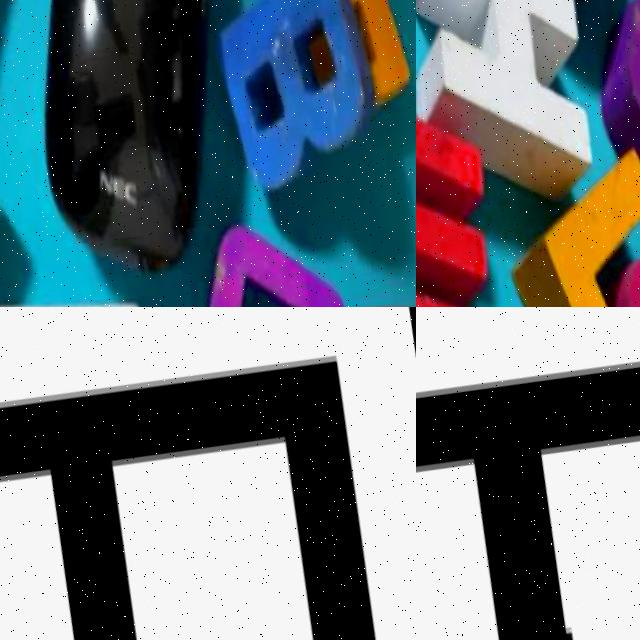B: (186, 0, 401, 195)
E: (0, 350, 384, 640)
G: (174, 185, 393, 307), (581, 0, 640, 254)
H: (416, 0, 628, 229)
L: (472, 104, 640, 307)
M: (0, 49, 50, 307)
P: (416, 353, 640, 640)
W: (416, 38, 546, 307)
